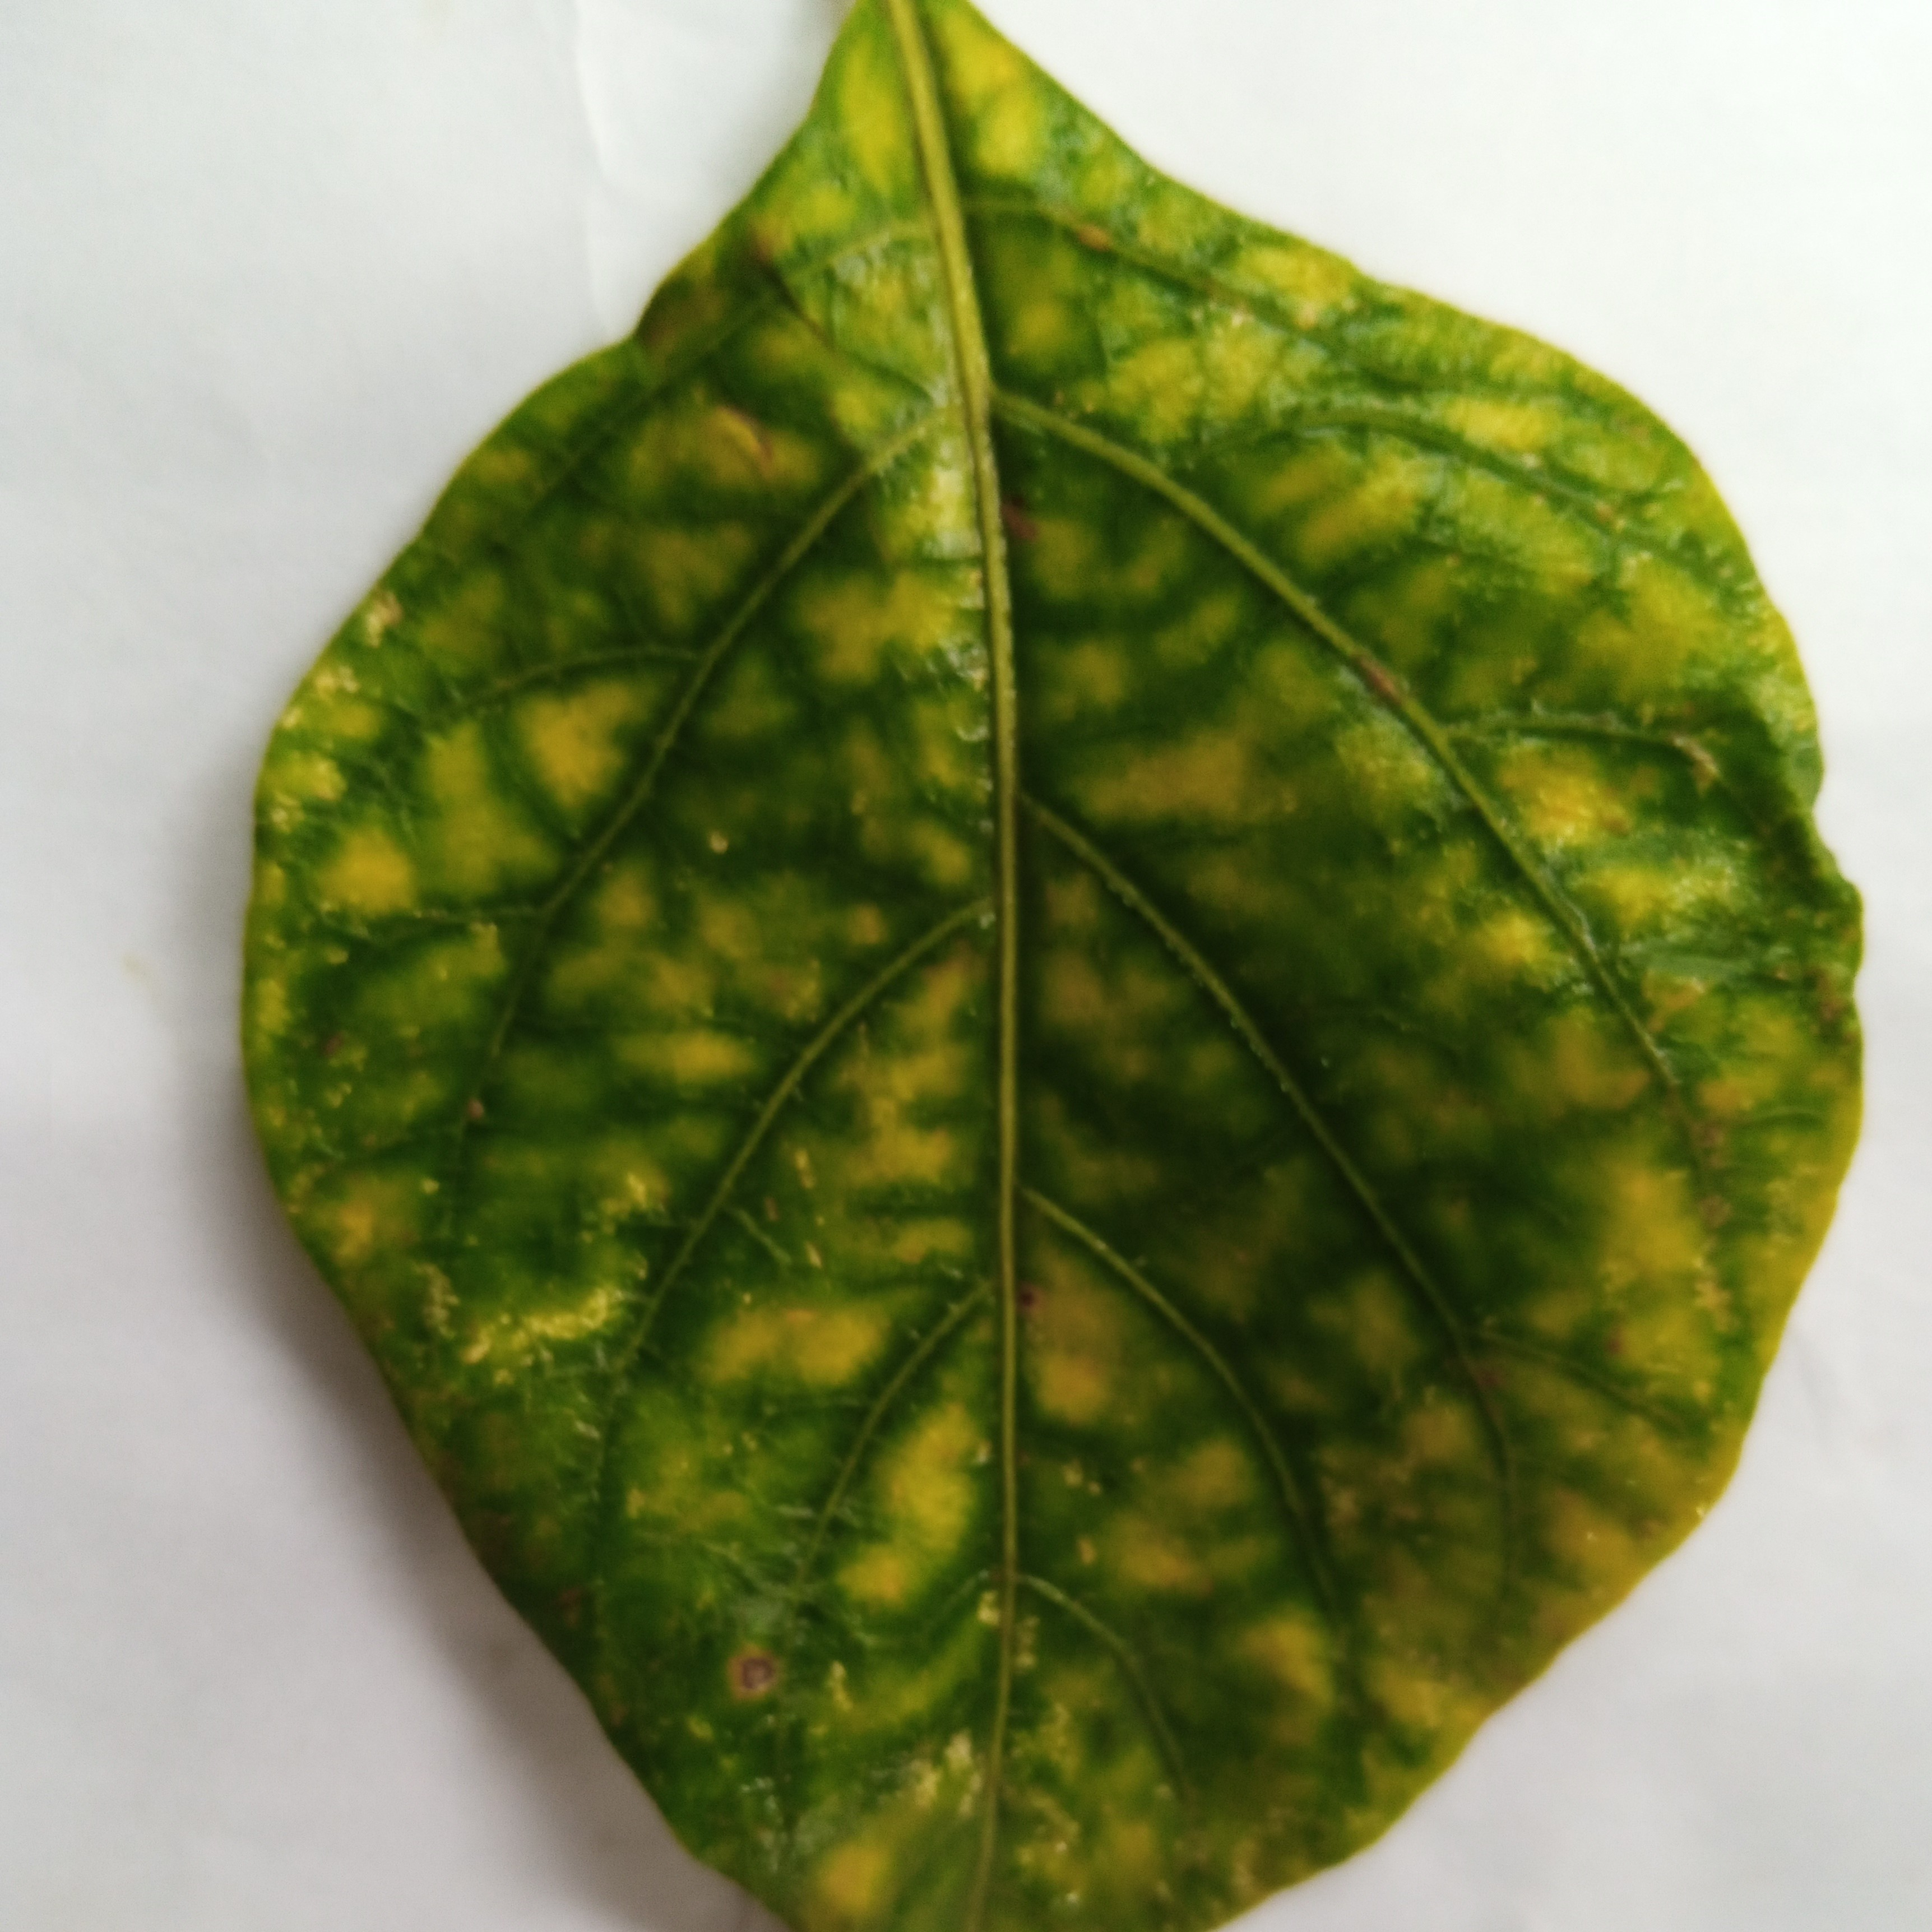Leaf: (152, 4, 1932, 1932)
